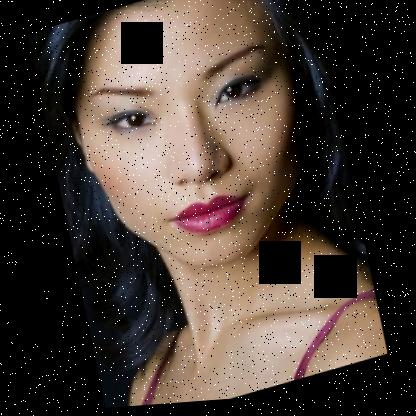Female: (51, 0, 337, 300)
